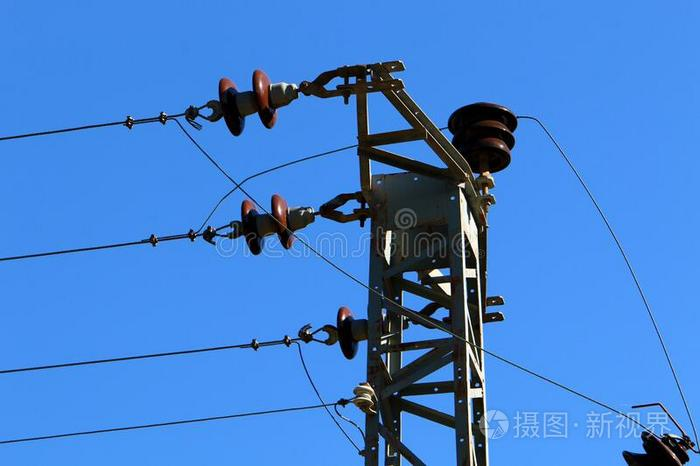insulator: (449, 100, 517, 168), (218, 72, 278, 136), (238, 195, 294, 255), (329, 304, 359, 359)
